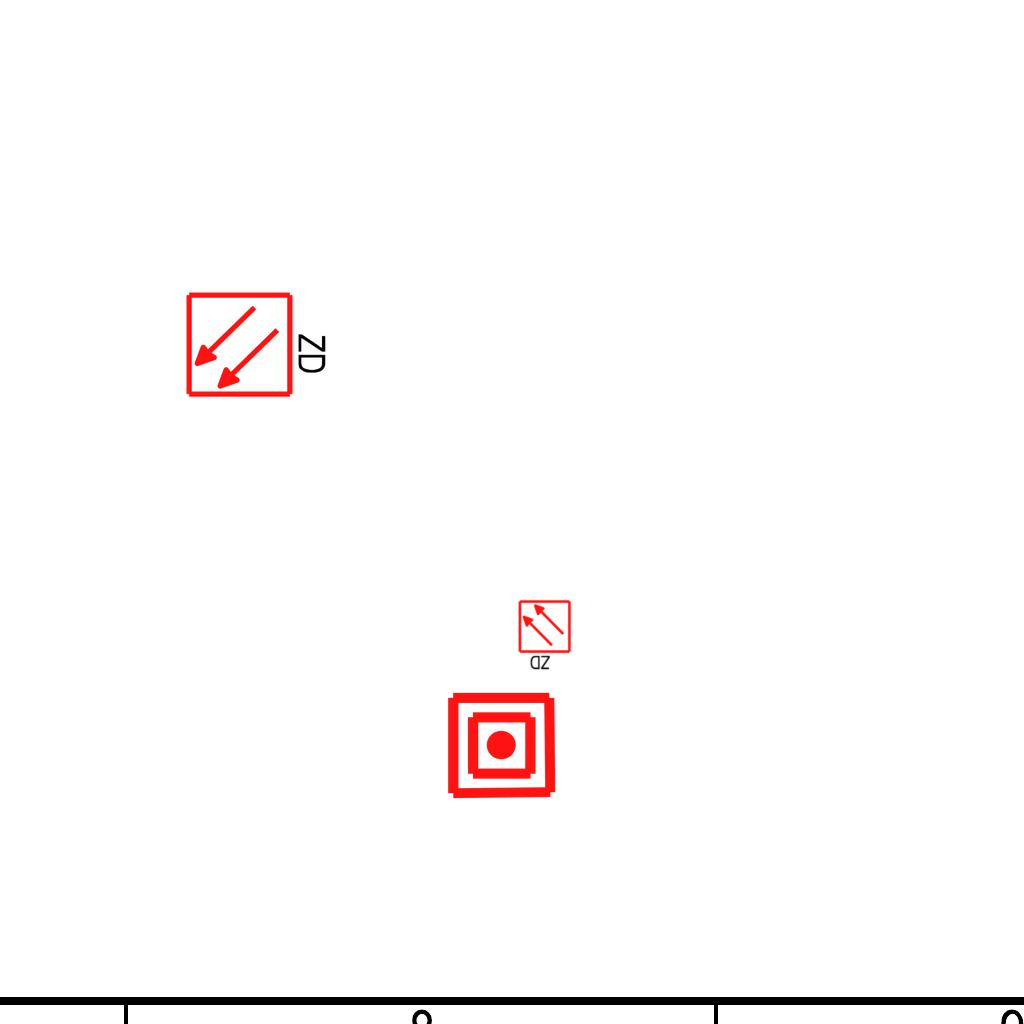NAM-Nichtautomatischer_Melder: (445, 689, 558, 802)
ZD_Melder_in_Zwischendecke_mit_Revisionsoeffnung_mind_40_x_40_cm: (184, 286, 333, 400), (517, 599, 574, 673)
